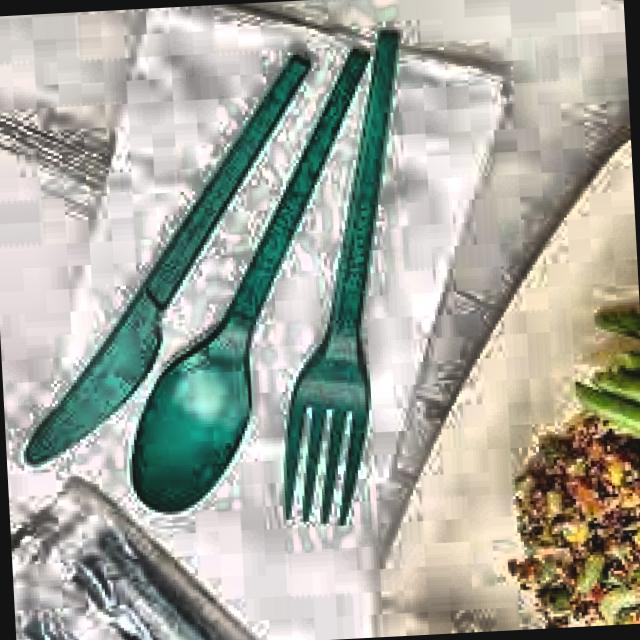plastic utensil: (24, 57, 309, 465), (132, 51, 370, 511), (287, 33, 399, 524)
